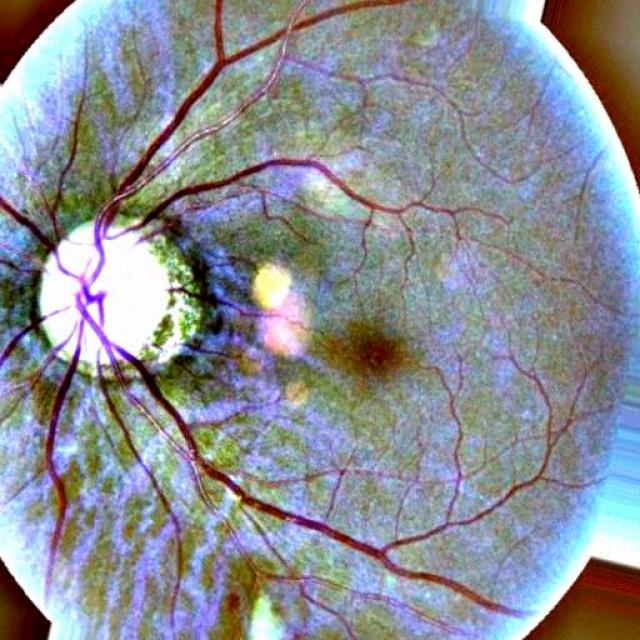Macula: (312, 321, 406, 376)
Nerves: (0, 0, 556, 615), (111, 156, 471, 238), (0, 306, 69, 368)
Optic Disk: (39, 221, 189, 368)
